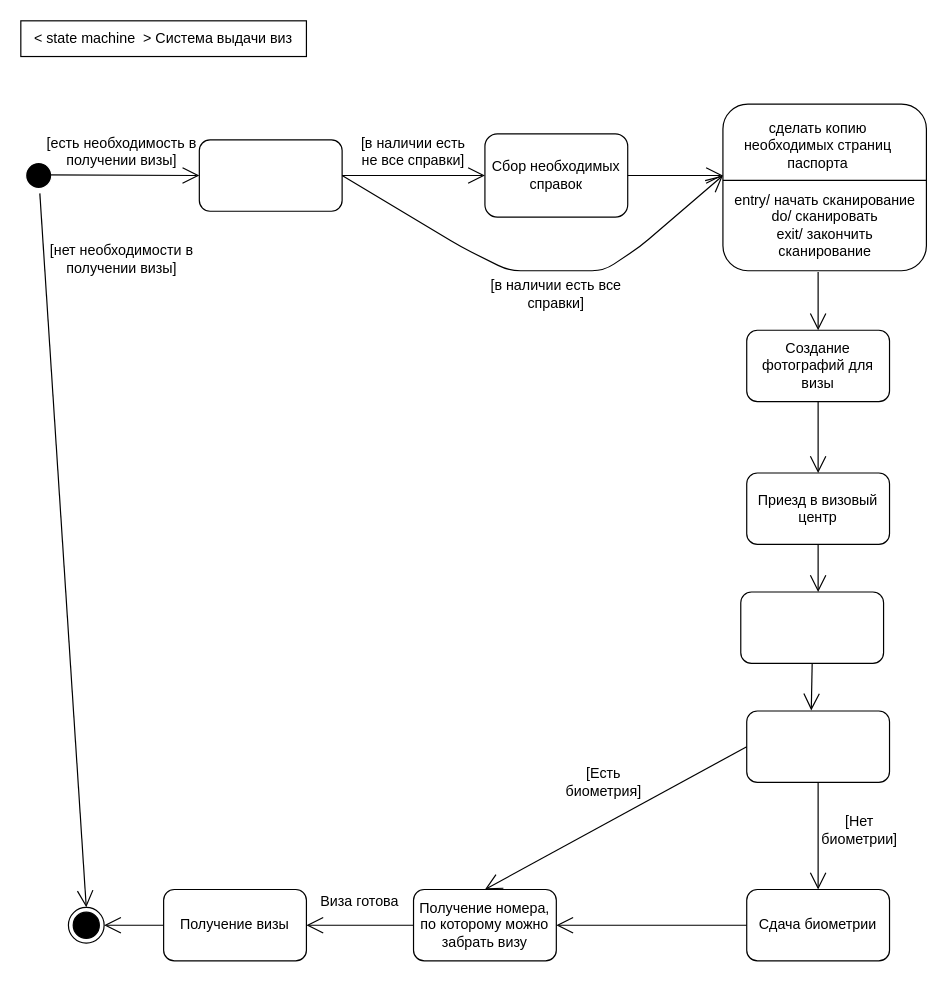
This 947x982 diagram has some shape labels left out. The centre of each missing label's shape, as x and y in pixels:
Оплата гос. пошлины: (818,746)
Подача заявления на визу: (812,627)
Составление списка необходимых документов: (270,175)
